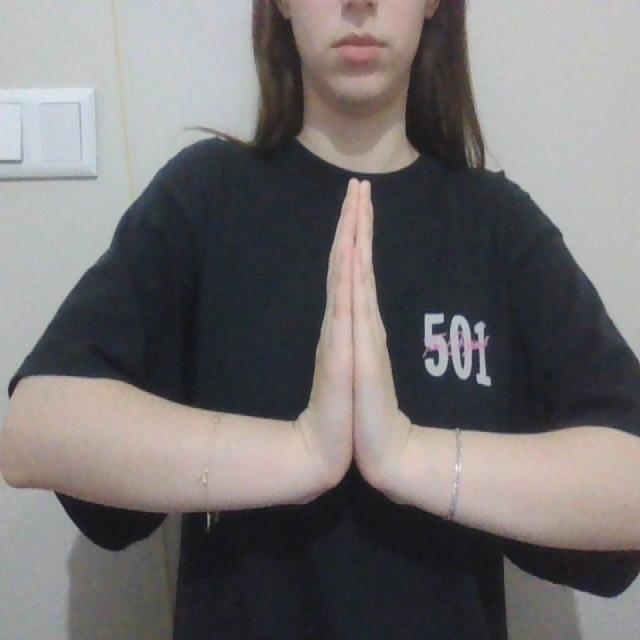Ozur-Dilemek: (282, 175, 408, 508)
